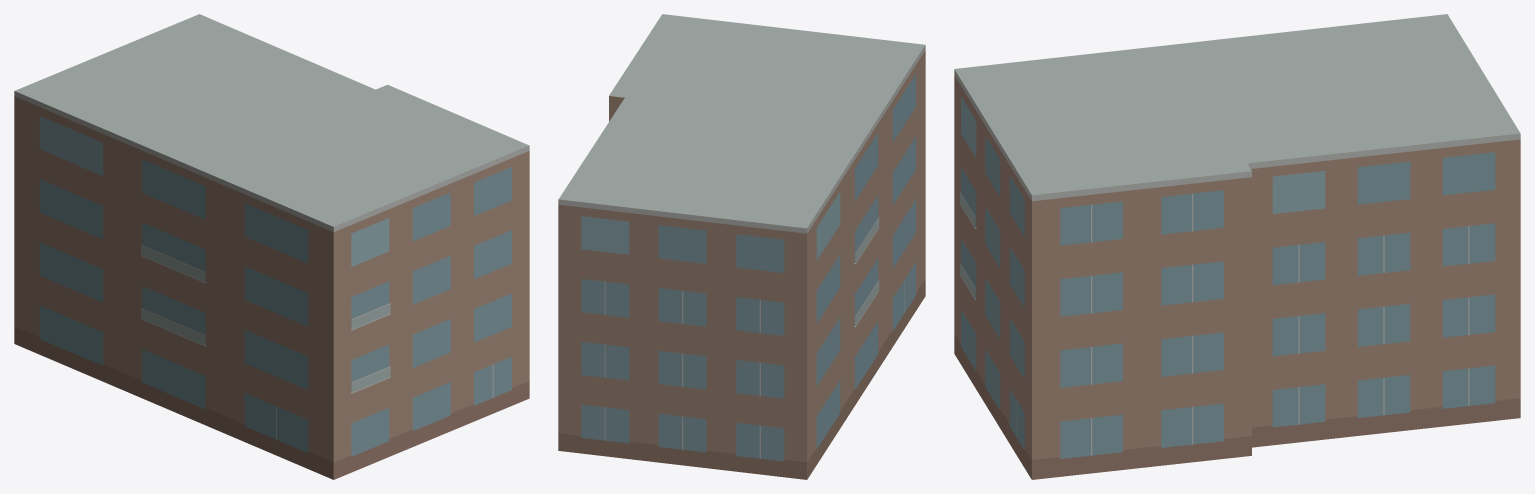
File: survey-upis-32493676.glb
3 views of the same model, side by side, from view 1: azimuth 30°, elevation 25°; view 2: azimuth 150°, elevation 25°; view 3: azimuth 270°, elevation 25° (orthographic). The views are drawn at different scales.
Parts seen in each view (by area): view 1: survey-upis-32493676.tmp; view 2: survey-upis-32493676.tmp; view 3: survey-upis-32493676.tmp.
Boxes of the visible parts, x1=… form: survey-upis-32493676.tmp: x1=14, y1=14, x2=529, y2=479; survey-upis-32493676.tmp: x1=558, y1=14, x2=925, y2=479; survey-upis-32493676.tmp: x1=954, y1=14, x2=1520, y2=479.
Size of the model in its own units: 16 by 11.7 by 21.12.
